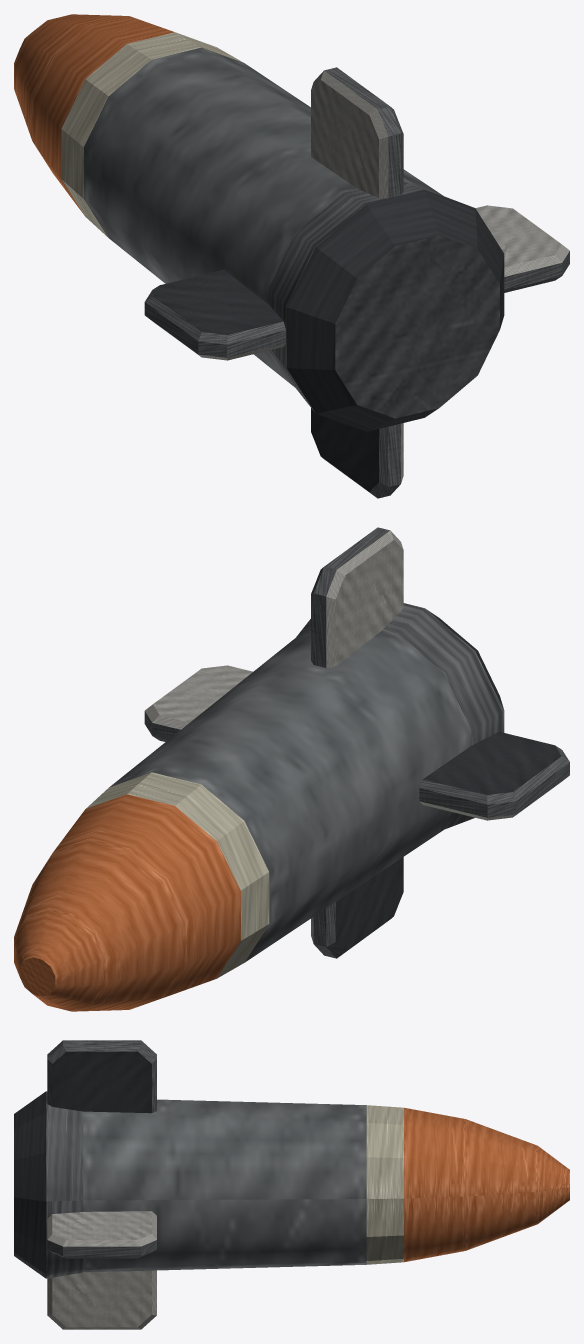
The model's file is Rocket.glb.
3 views of the same model, one above another, from view 1: azimuth 30°, elevation 25°; view 2: azimuth 150°, elevation 25°; view 3: azimuth 270°, elevation 25° (orthographic). The views are drawn at different scales.
Visible parts, largest first — view 1: Rocket; view 2: Rocket; view 3: Rocket.
Part boxes in pixels (<box>): Rocket: <box>14,14,569,498</box>; Rocket: <box>14,527,569,1011</box>; Rocket: <box>14,1040,569,1329</box>.
Size of the model in its own units: 0.244 by 0.244 by 0.432.
Materials: 1 (1 with a texture image).
